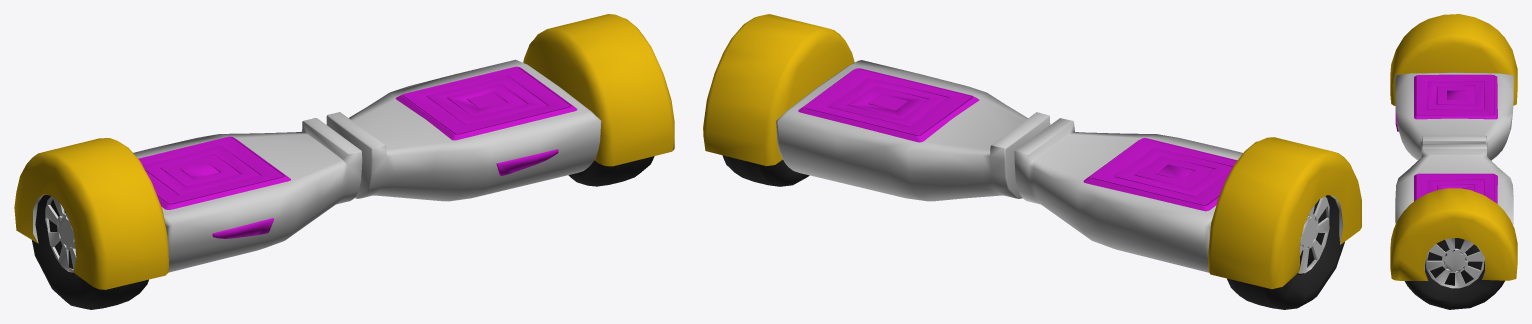
Rendered from HoverBoard.fbx.
The picture shows the model from 3 angles, left to right: view 1: azimuth 30°, elevation 25°; view 2: azimuth 150°, elevation 25°; view 3: azimuth 270°, elevation 25°; orthographic projection. The views are drawn at different scales.
Visible parts, largest first — view 1: HoverBoard, Tire; view 2: HoverBoard, Tire; view 3: HoverBoard, Tire.
Part boxes in pixels (bbox=[...]): HoverBoard: bbox=[14, 14, 674, 289]; Tire: bbox=[32, 156, 654, 309]; HoverBoard: bbox=[703, 14, 1361, 289]; Tire: bbox=[722, 155, 1344, 309]; HoverBoard: bbox=[1390, 14, 1517, 280]; Tire: bbox=[1404, 238, 1504, 309].
Size of the model in its own units: 77.97 by 19.43 by 21.01.
